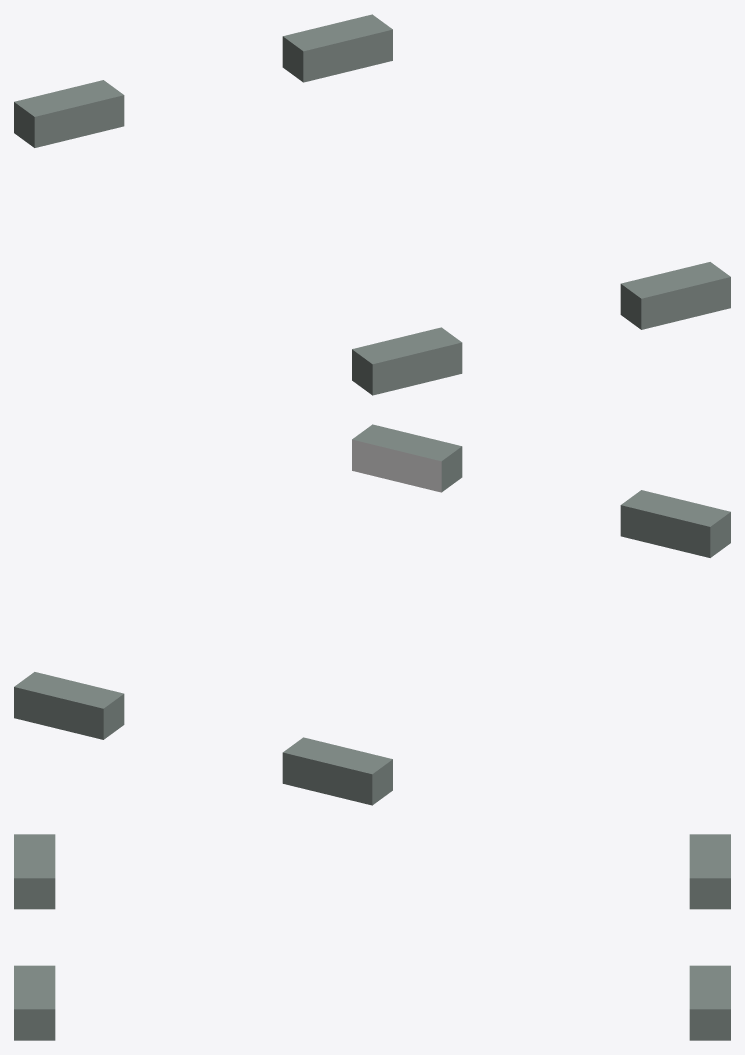
The model's file is DoorHandles.glb.
3 views of the same model, one above another, from view 1: azimuth 30°, elevation 25°; view 2: azimuth 150°, elevation 25°; view 3: azimuth 270°, elevation 25° (orthographic).
Parts seen in each view (by area): view 1: Cube.053; view 2: Cube.053; view 3: Cube.053.
Boxes of the visible parts, left/top/right/bottom form: Cube.053: left=14, top=14, right=730, bottom=395; Cube.053: left=14, top=424, right=730, bottom=805; Cube.053: left=14, top=834, right=730, bottom=1040.
Size of the model in its own units: 0.0387 by 0.00323 by 0.0671.
Materials: 1 (1 with a texture image).
